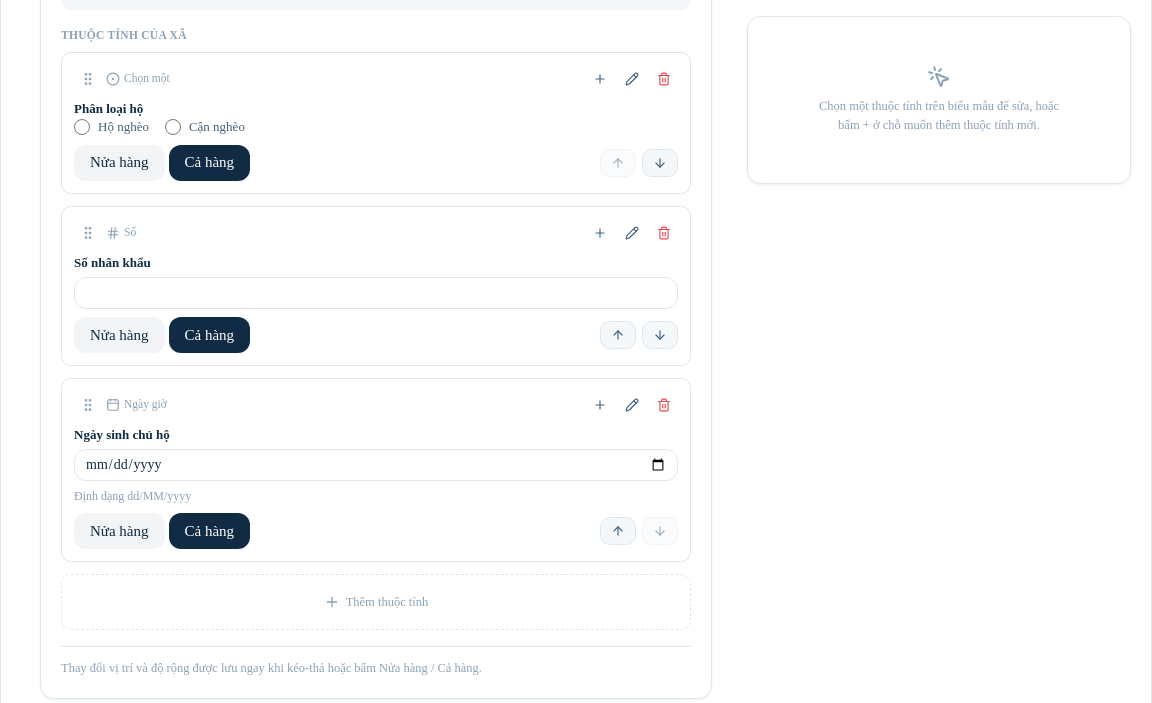
add dialog — random code › Sinh mã khác draws a new random code
(page scrolled)
Click the button "Thêm thuộc tính".
click(376, 602)  # box x1=61 y1=574 x2=691 y2=630
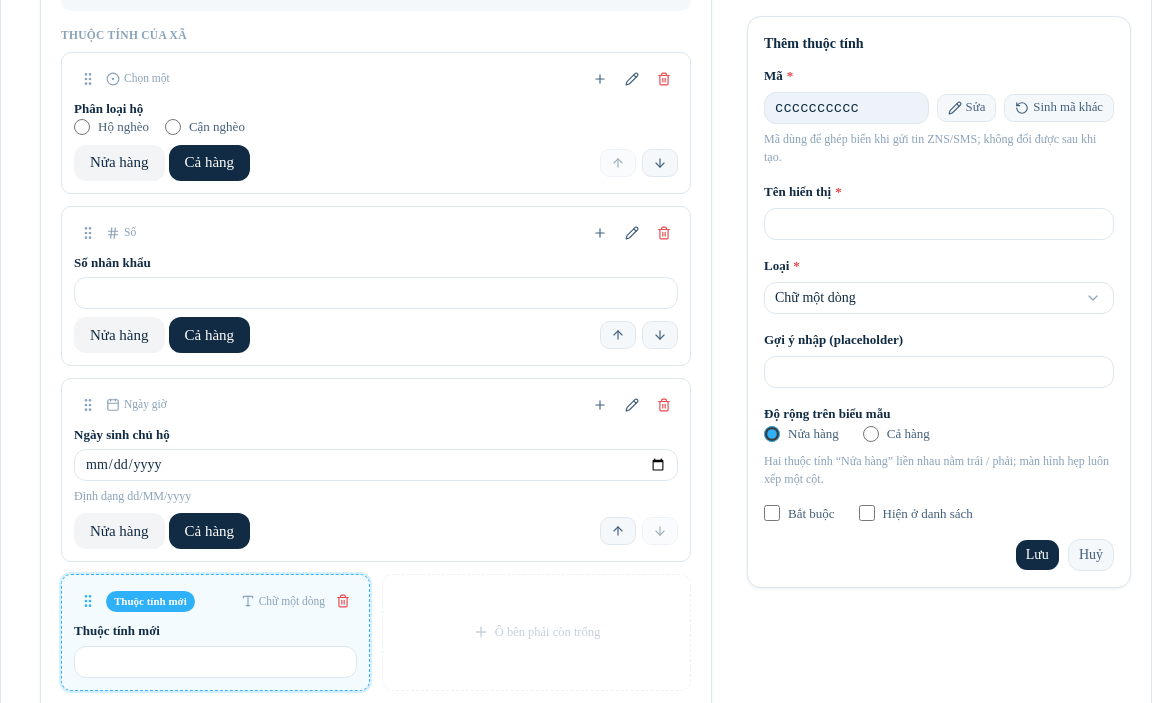
Expected: the field with id "citizen-field-code" holds "cccccccccc", x1=764 y1=92 x2=929 y2=124
Click the button "Sinh mã khác".
click(1059, 108)  # box x1=1004 y1=94 x2=1114 y2=122
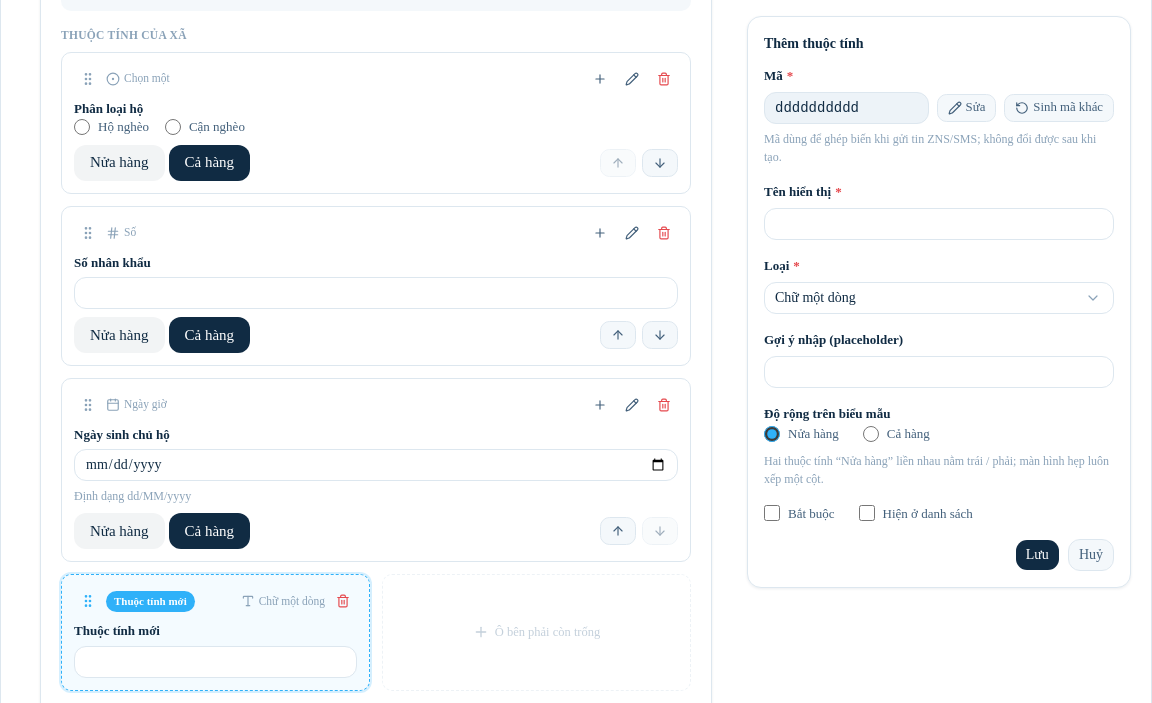
Expected: the field with id "citizen-field-code" holds "dddddddddd", x1=764 y1=92 x2=929 y2=124
